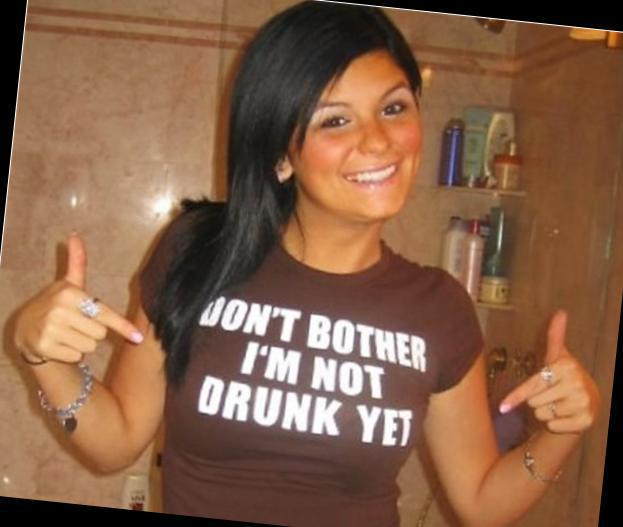Drunk: (309, 62, 419, 217)
